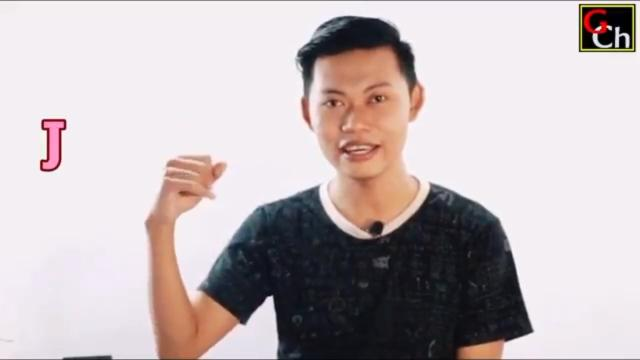J: (142, 150, 230, 230)
